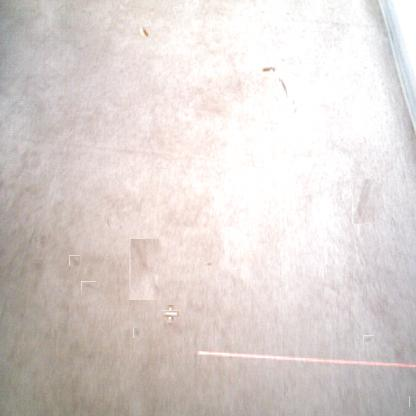dirty: (164, 308, 177, 320), (140, 26, 150, 36), (261, 66, 275, 73)
mark: (130, 238, 160, 300), (352, 178, 375, 224), (35, 236, 47, 248), (279, 78, 287, 95), (82, 280, 94, 291), (32, 260, 43, 272), (69, 255, 80, 266), (104, 216, 112, 230), (291, 98, 297, 113), (409, 395, 416, 407), (364, 334, 373, 343), (133, 328, 140, 338), (204, 261, 212, 269)
